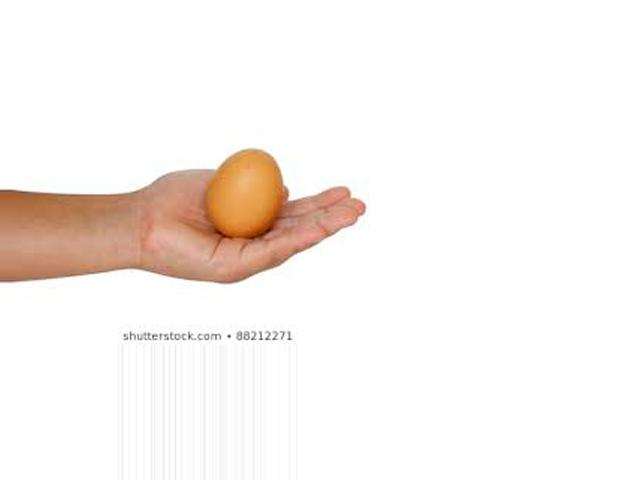egg: (206, 148, 283, 240)
